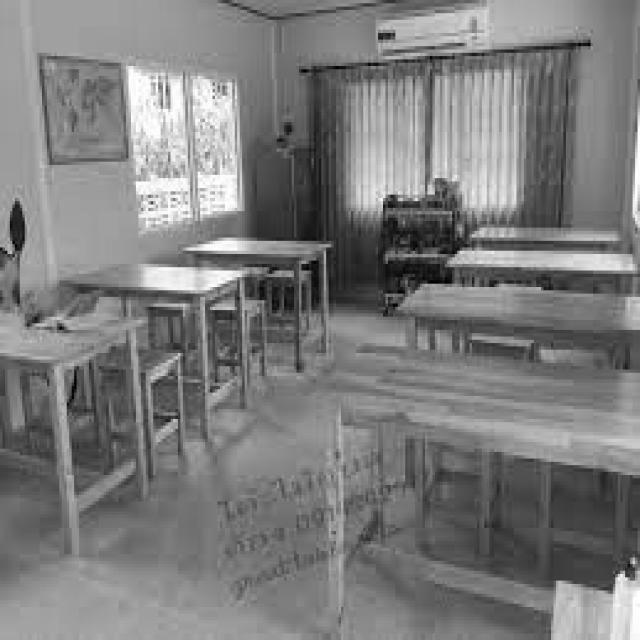table: (309, 336, 635, 486), (388, 266, 636, 341), (52, 249, 250, 328)
